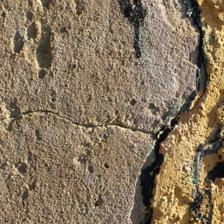Crack: (141, 3, 214, 222), (5, 103, 159, 139)
